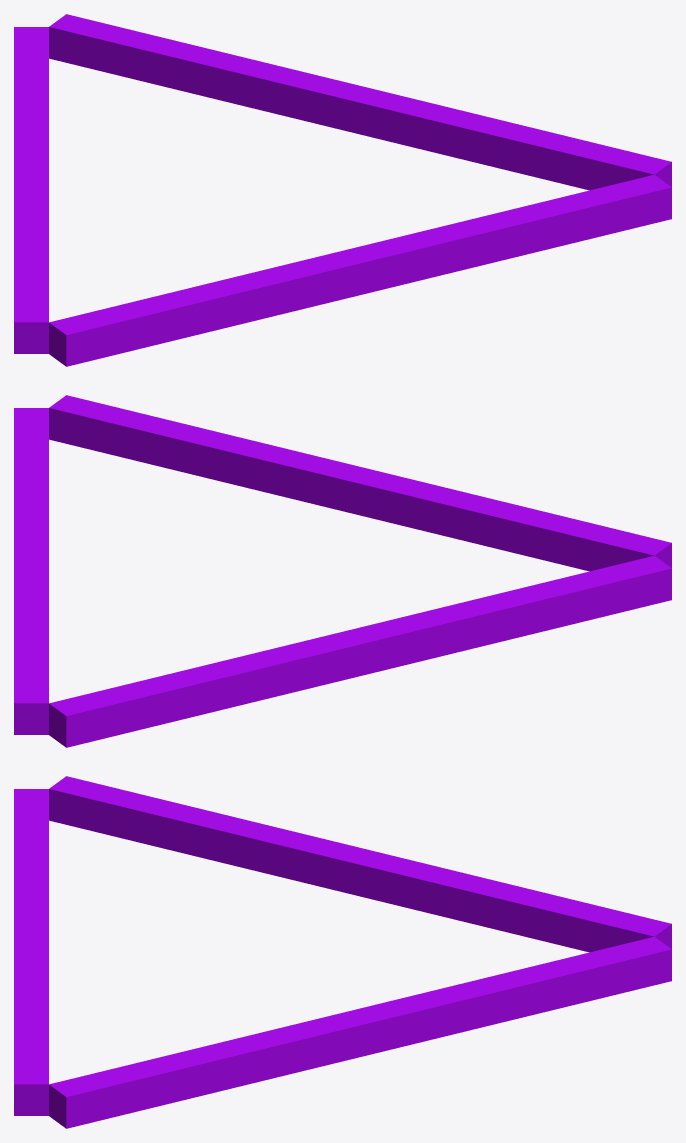
The model's file is trianglebuild.dae.
3 views of the same model, one above another, from view 1: azimuth 30°, elevation 25°; view 2: azimuth 150°, elevation 25°; view 3: azimuth 270°, elevation 25° (orthographic).
Visible parts, largest first — view 1: Cube.018, Cube.058, Cube.038, Cube.037, Cube.032, Cube.029, Cube.023, Cube.019, Cube.010, Cube.009, Cube.004, Cube.040 (+48 smaller); view 2: Cube.045, Cube.038, Cube.059, Cube.053, Cube.048, Cube.044, Cube.020, Cube.011, Cube.008, Cube.006, Cube.005, Cube.060 (+48 smaller); view 3: Cube.025, Cube.005, Cube.058, Cube.057, Cube.052, Cube.049, Cube.043, Cube.039, Cube.033, Cube.028, Cube.024, Cube.060 (+48 smaller).
Boxes of the visible parts, x1,y1,x2,y2 form: Cube.018: (49, 315, 96, 366); Cube.058: (14, 307, 48, 353); Cube.038: (49, 14, 96, 65); Cube.037: (79, 21, 126, 73); Cube.032: (412, 103, 459, 154); Cube.029: (321, 80, 368, 132); Cube.023: (503, 125, 550, 176); Cube.019: (200, 278, 247, 329); Cube.010: (291, 256, 338, 307); Cube.009: (322, 248, 369, 300); Cube.004: (473, 211, 520, 263); Cube.040: (170, 43, 217, 95); Cube.045: (49, 696, 96, 747); Cube.038: (14, 688, 48, 734); Cube.059: (473, 592, 520, 644); Cube.053: (291, 637, 338, 688); Cube.048: (322, 629, 369, 681); Cube.044: (200, 659, 247, 710); Cube.020: (503, 506, 550, 557); Cube.011: (412, 484, 459, 535); Cube.008: (321, 461, 368, 513); Cube.006: (79, 402, 126, 454); Cube.005: (49, 395, 96, 446); Cube.060: (503, 585, 550, 636); Cube.025: (49, 1077, 96, 1128); Cube.005: (14, 1069, 48, 1115); Cube.058: (49, 776, 96, 827); Cube.057: (79, 783, 126, 835); Cube.052: (412, 865, 459, 916); Cube.049: (321, 842, 368, 894); Cube.043: (503, 887, 550, 938); Cube.039: (473, 973, 520, 1025); Cube.033: (291, 1018, 338, 1069); Cube.028: (322, 1010, 369, 1062); Cube.024: (200, 1040, 247, 1091); Cube.060: (170, 805, 217, 857).
Size of the model in its own units: 43.46 by 37.64 by 2.
